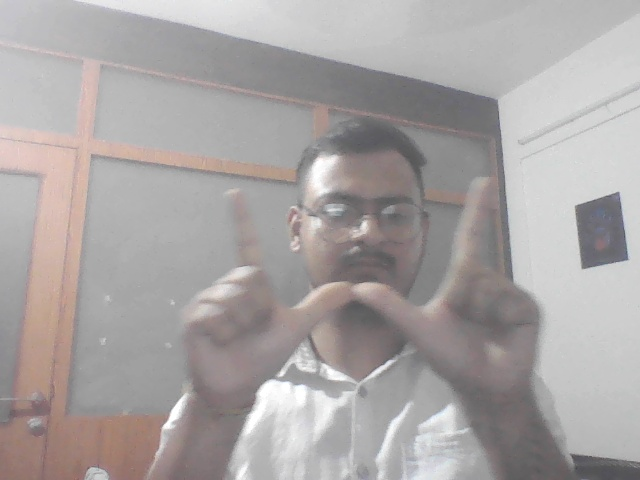Whatever: (167, 174, 553, 415)
